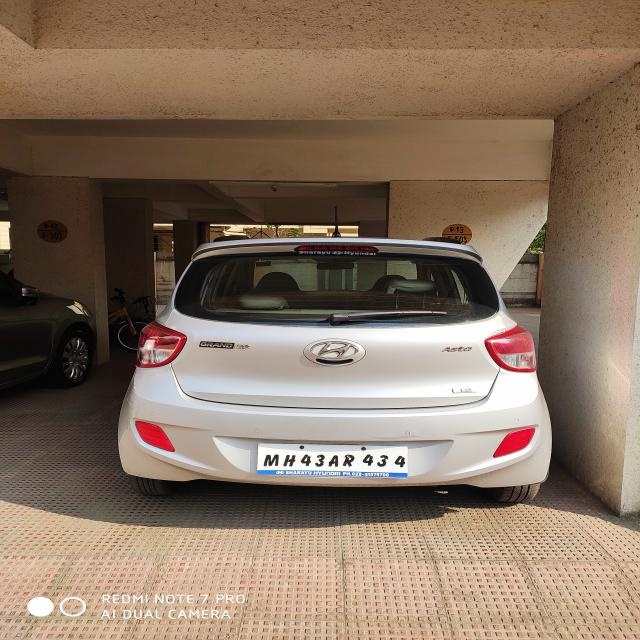Number-Plate: (260, 446, 410, 476)
